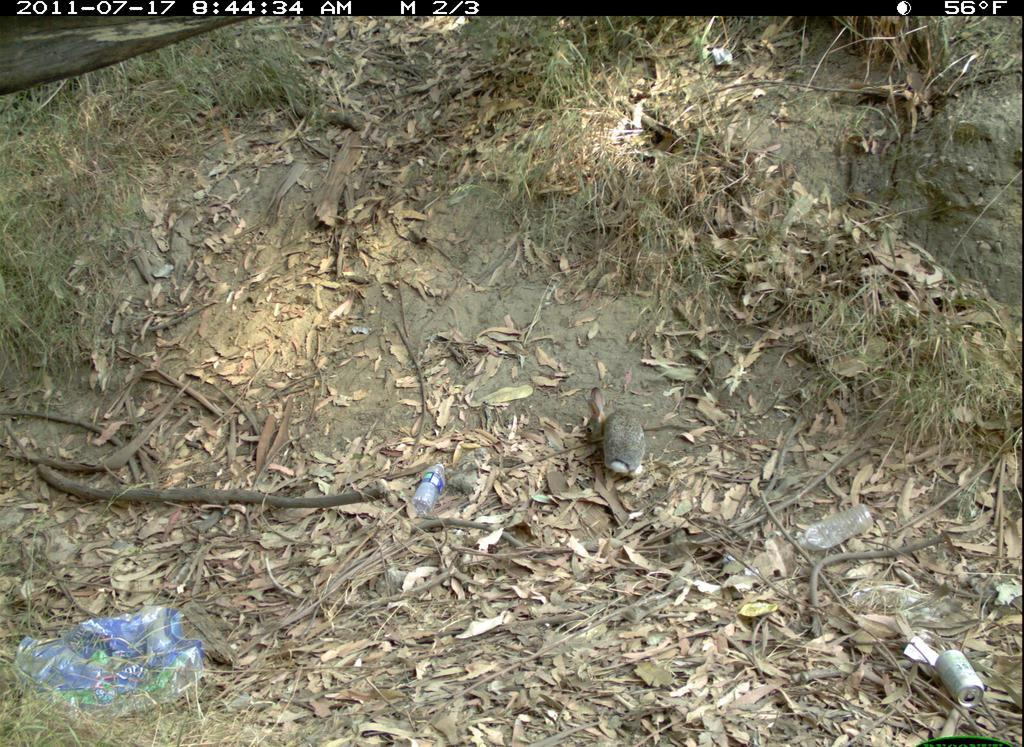rabbit: (575, 388, 648, 479)
